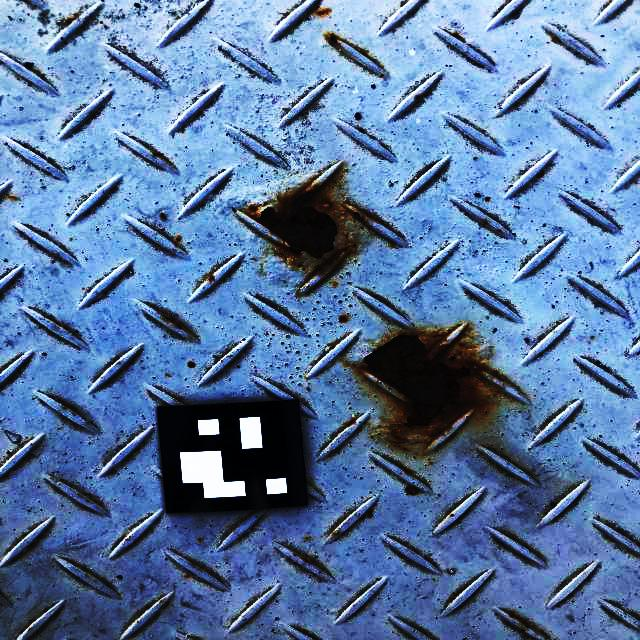Corrosion: (364, 330, 477, 438), (237, 174, 348, 273), (158, 313, 182, 330), (316, 8, 332, 16), (329, 34, 339, 46), (338, 315, 348, 323), (520, 622, 531, 628), (518, 628, 527, 634)
